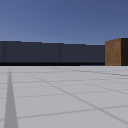obstacle: (105, 38, 128, 65)
